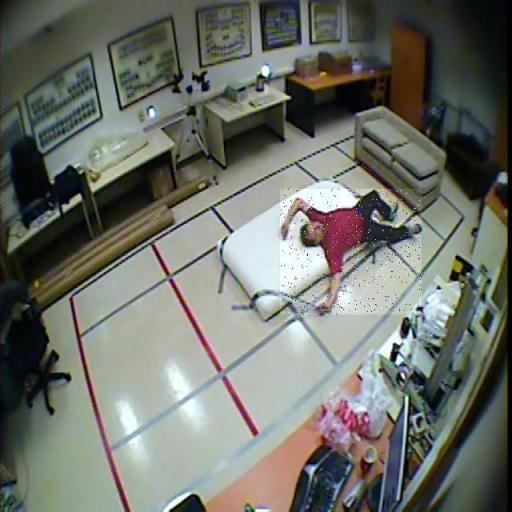Fall: (280, 189, 422, 314)
